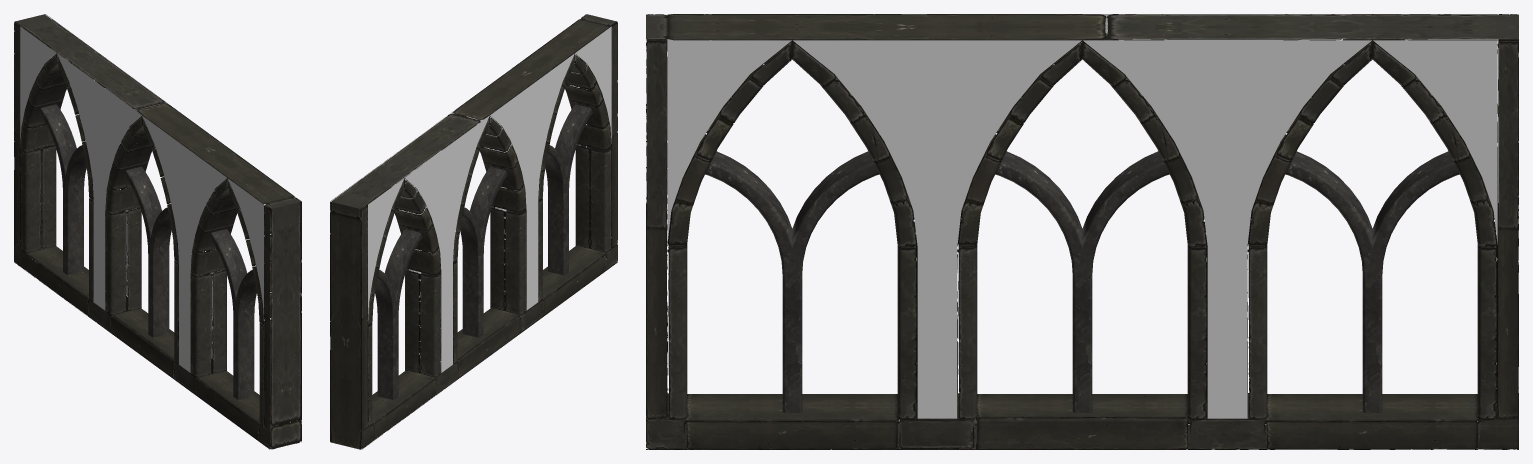
3 views of the same model, side by side, from view 1: azimuth 30°, elevation 25°; view 2: azimuth 150°, elevation 25°; view 3: azimuth 270°, elevation 25° (orthographic). The views are drawn at different scales.
Visible parts, largest first — view 1: SM_Greathall_Wall_Top_8x6_02_LOD0; view 2: SM_Greathall_Wall_Top_8x6_02_LOD0; view 3: SM_Greathall_Wall_Top_8x6_02_LOD0.
Boxes of the visible parts, x1=… form: SM_Greathall_Wall_Top_8x6_02_LOD0: x1=14, y1=14, x2=301, y2=449; SM_Greathall_Wall_Top_8x6_02_LOD0: x1=330, y1=14, x2=617, y2=449; SM_Greathall_Wall_Top_8x6_02_LOD0: x1=646, y1=14, x2=1518, y2=449.
Bounding box in the file's own units: 0.512 × 3.73 × 7.2.
3 materials, 2 textured.
